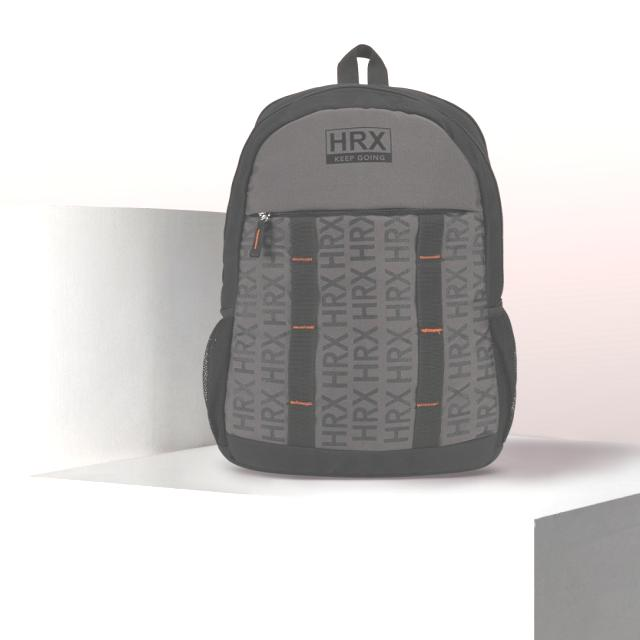backpack: (202, 44, 518, 479)
